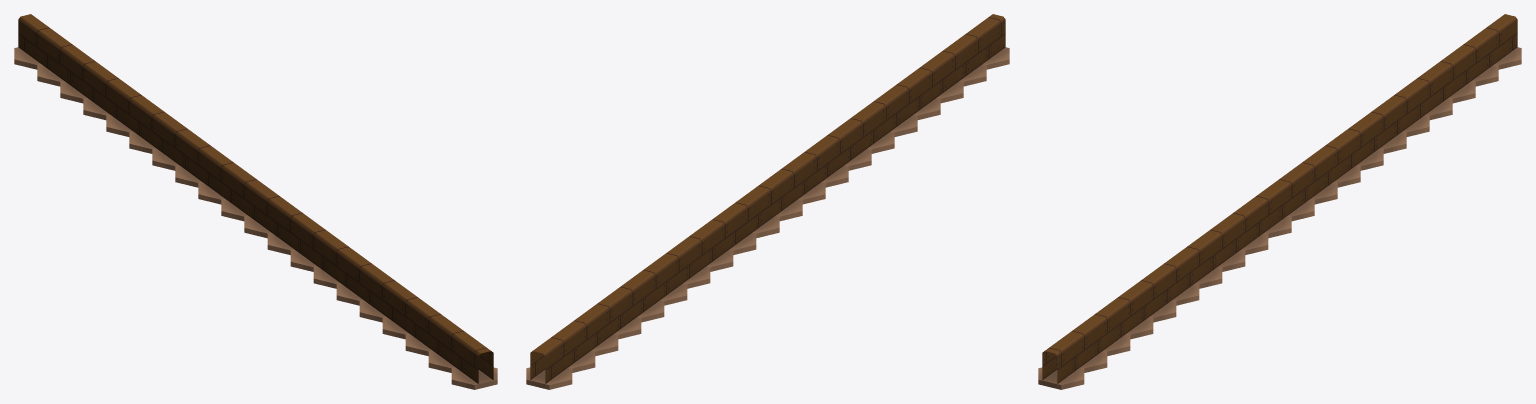
File: Barriere20_Centre_Pont.FBX
3 renders of one model, left to right at view 1: azimuth 30°, elevation 25°; view 2: azimuth 150°, elevation 25°; view 3: azimuth 330°, elevation 25°, orthographic.
Visible parts, largest first — view 1: Barriere20_Centre_Pont; view 2: Barriere20_Centre_Pont; view 3: Barriere20_Centre_Pont.
Part boxes in pixels (x1,y1,x2,y2): Barriere20_Centre_Pont: (14,14,497,389); Barriere20_Centre_Pont: (526,14,1009,389); Barriere20_Centre_Pont: (1038,14,1521,389).
Bounding box in the file's own units: 1 × 0.7246 × 17.32.
